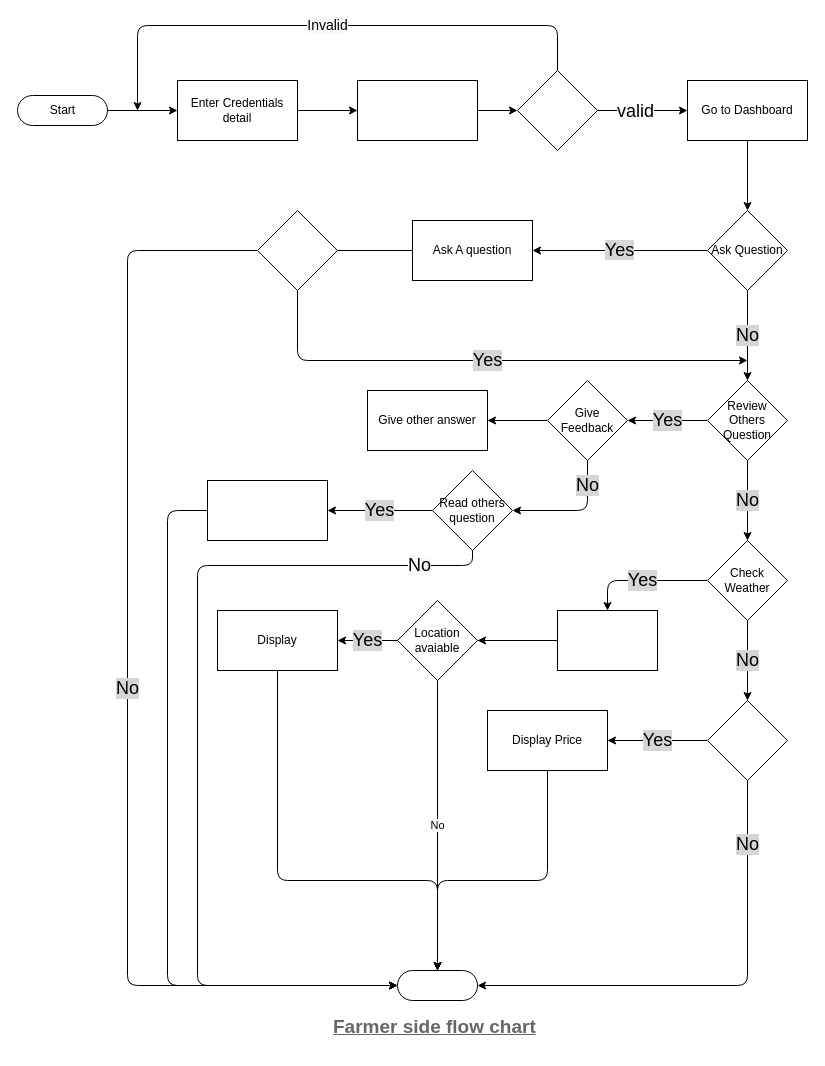
Some shapes in this 825 by 1066 pixel diagram are drawn without their labels. Each missing label, with the box of its shape:
Authenticate: (516, 70, 598, 150)
Check price: (706, 700, 788, 780)
End: (396, 970, 478, 1000)
input location: (556, 610, 658, 670)
Read: (206, 480, 328, 540)
Review Question: (256, 210, 338, 290)
Validate OTP: (356, 80, 478, 140)
